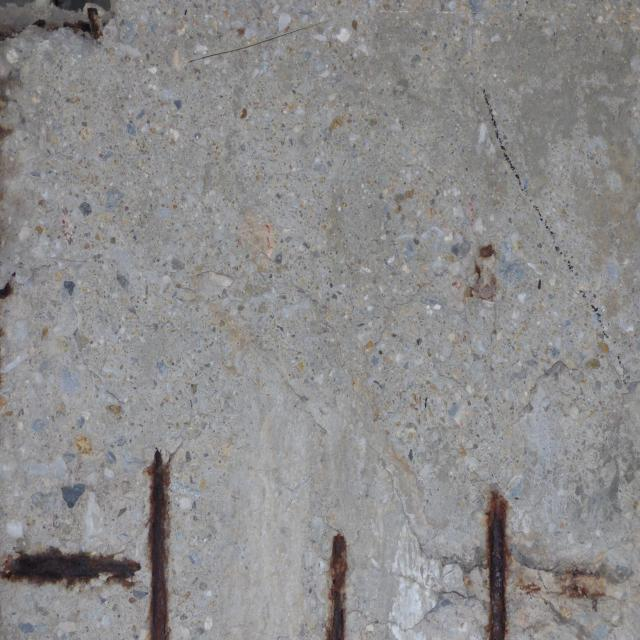corrosion: (0, 442, 180, 640), (469, 482, 543, 640), (0, 0, 122, 49), (317, 512, 363, 640), (456, 226, 519, 317), (551, 559, 611, 617), (0, 274, 22, 306)
